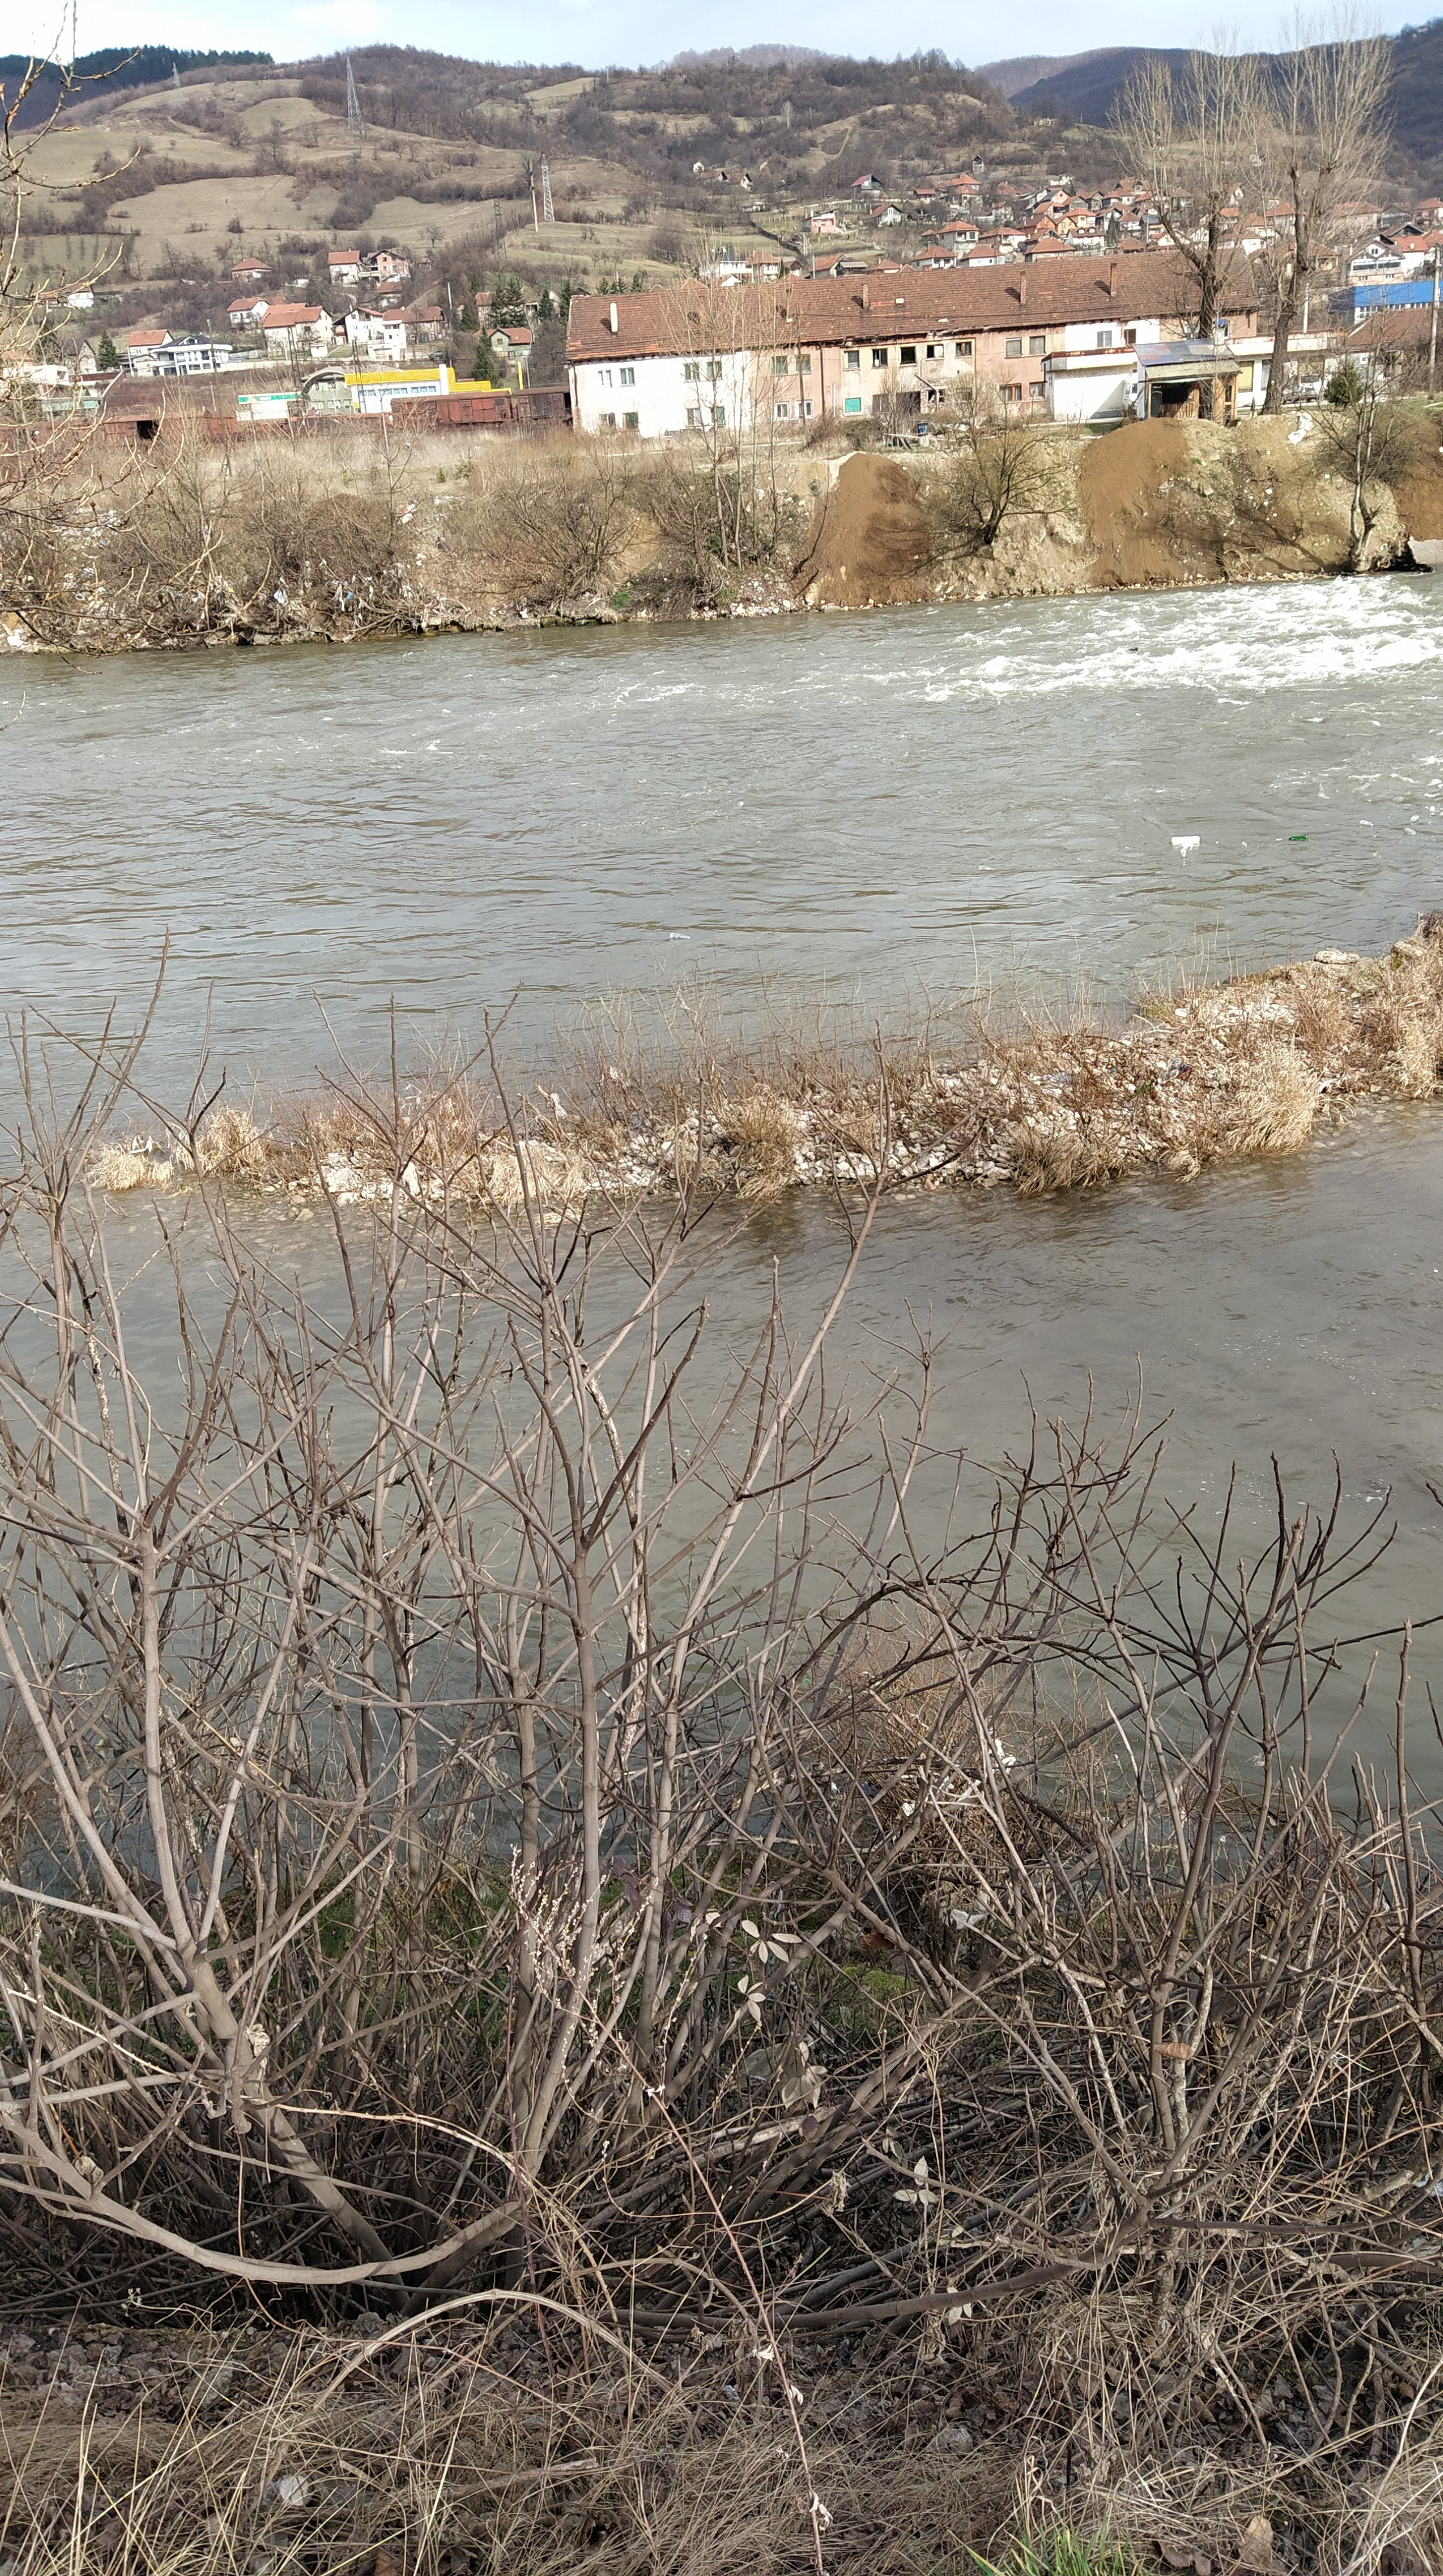Plastic Bottle: (669, 932, 689, 939), (1289, 835, 1308, 840), (1404, 826, 1415, 835), (1360, 819, 1372, 826), (979, 865, 993, 870), (1181, 847, 1186, 858), (1429, 805, 1434, 814), (1130, 646, 1137, 651), (1411, 814, 1416, 821)
